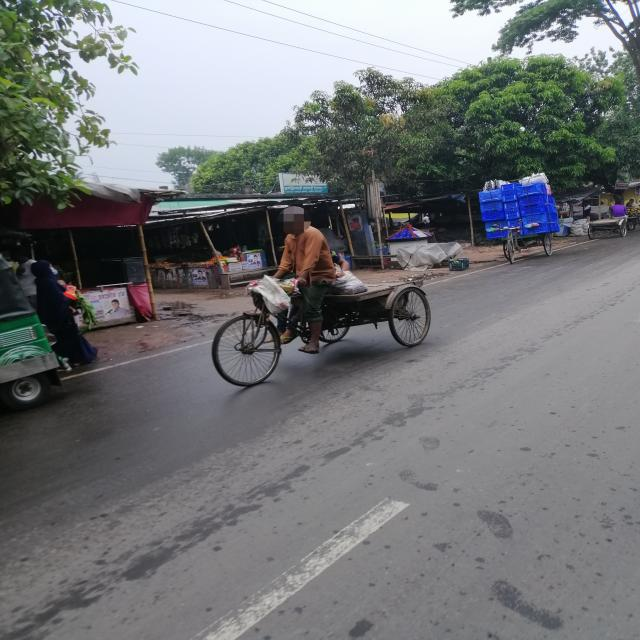Van: (206, 263, 442, 393)
